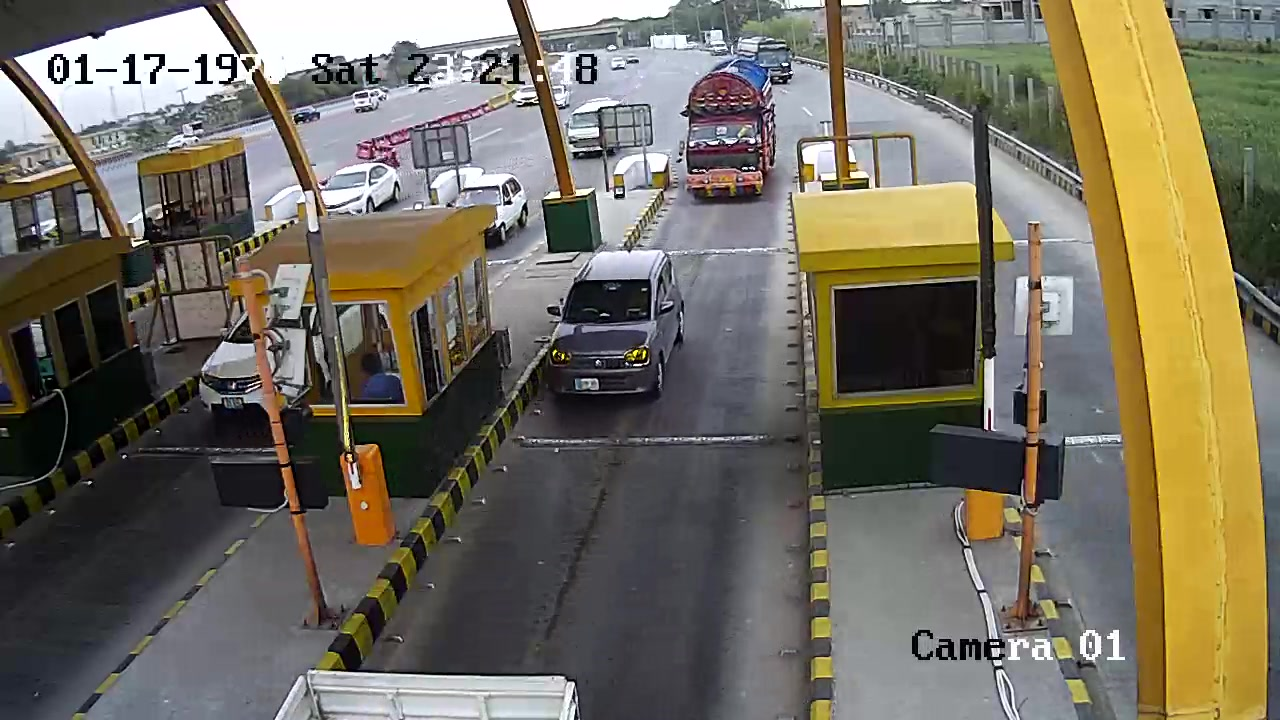F1: (548, 243, 685, 407)
